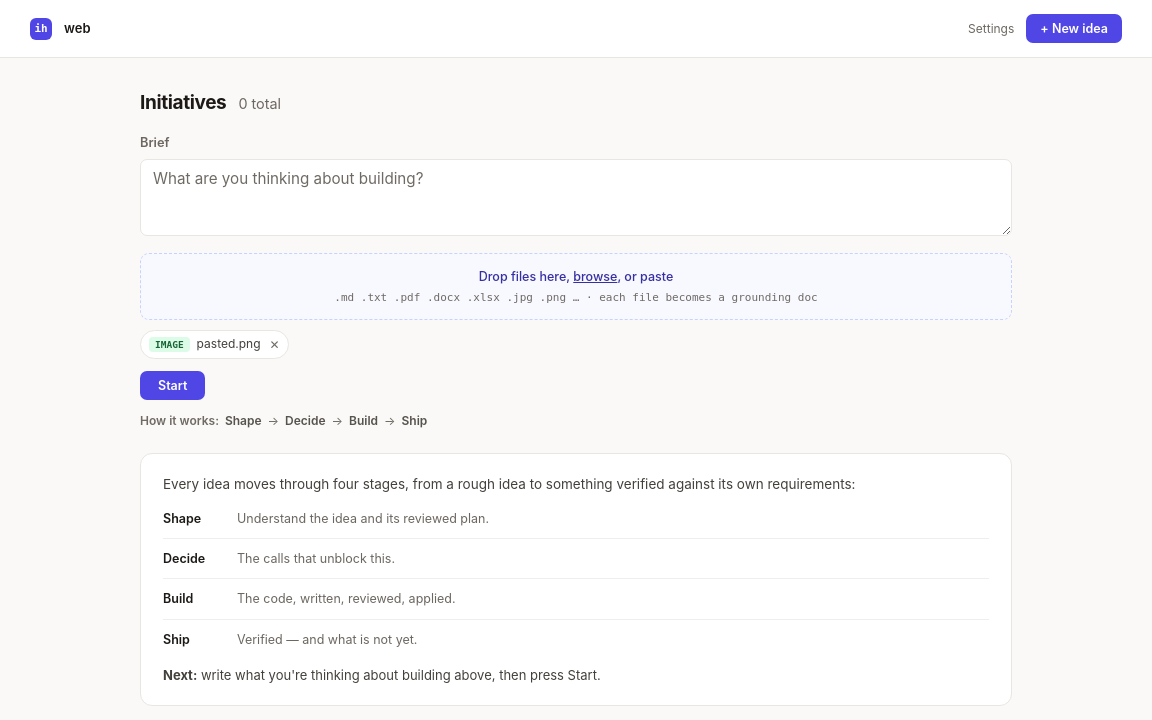
Test: ProductHome compose › adds a pasted file and can remove an attached file
This screenshot has width=1152, height=720.
Expected: the text "pasted.png" is shown, x1=197 y1=336 x2=261 y2=354
What coordinates should you click on to do the following:
click the button named "Remove pasted.png"
I would click on:
 (275, 345)
Its box is x1=268 y1=339 x2=282 y2=351.
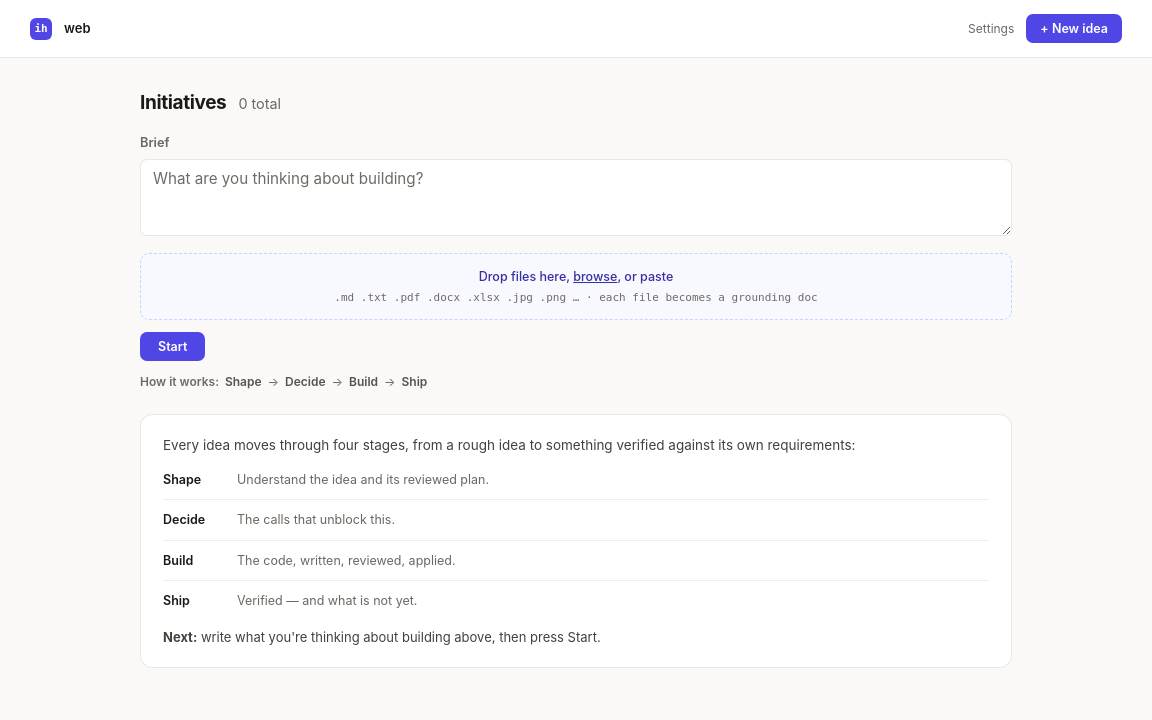
Expected: the text "pasted.png" is gone
Expected: the list is gone
